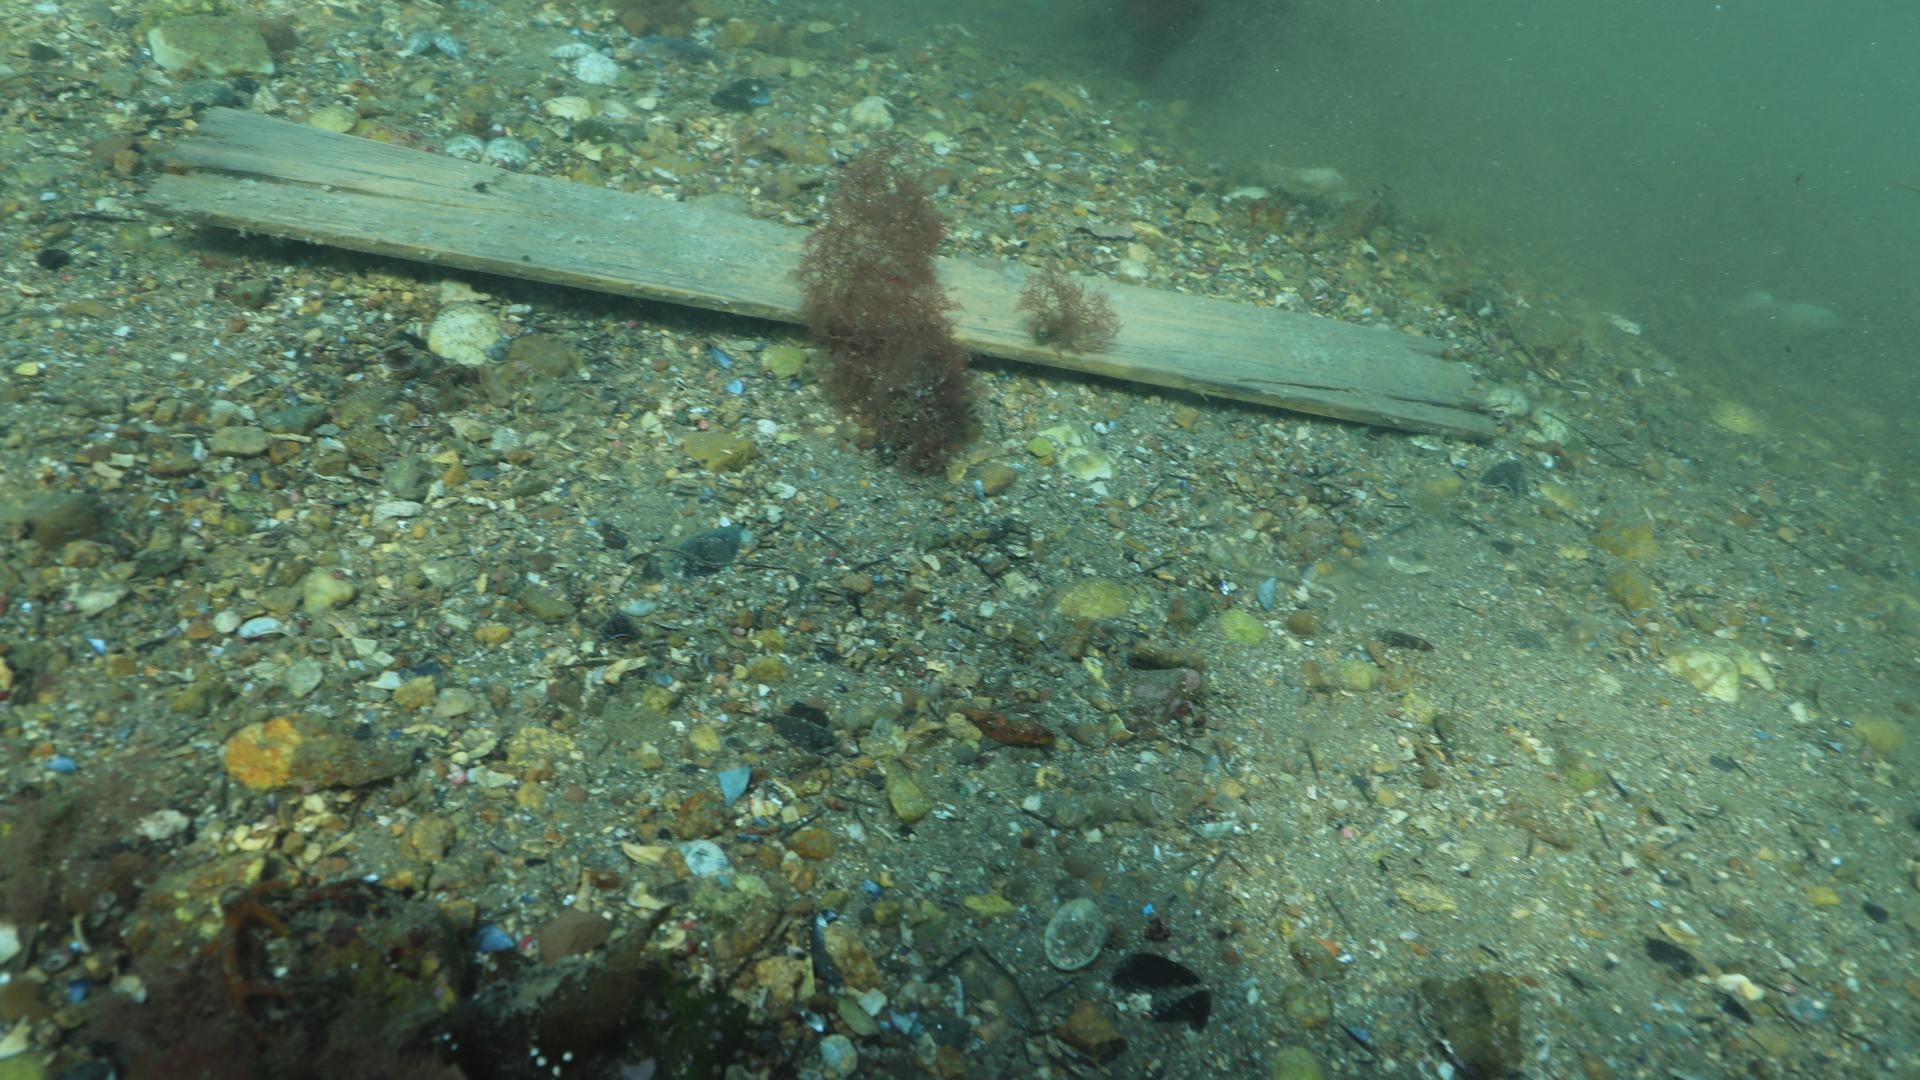wood: (137, 102, 1495, 446)
